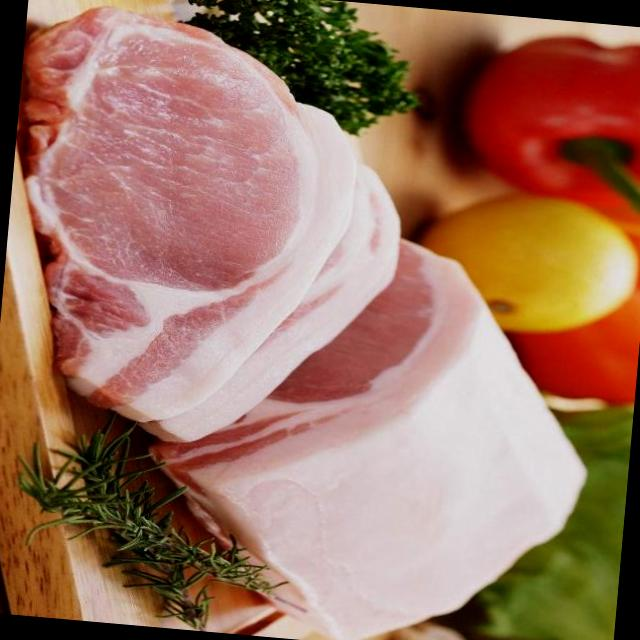pork: (185, 232, 616, 639), (1, 11, 358, 430)
